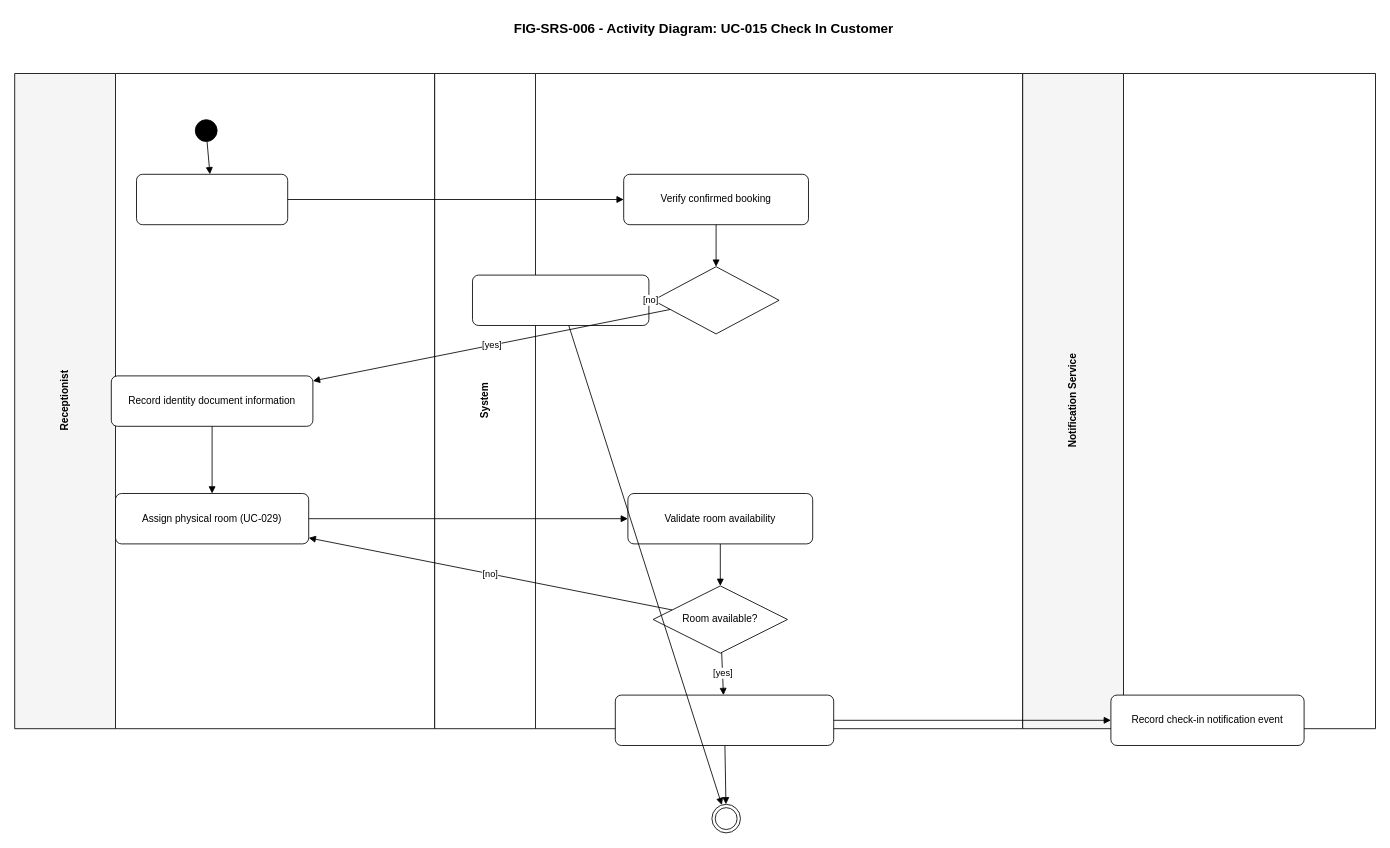
This 1390x848 diagram has some shape labels left out. The centre of each missing label's shape, as x and y in pixels:
"Confirmed?" goes at (x=715, y=300).
"Mark checked in and update room status" goes at (x=724, y=720).
"Open booking" goes at (x=212, y=199).
"Show check-in not allowed" goes at (x=560, y=300).
